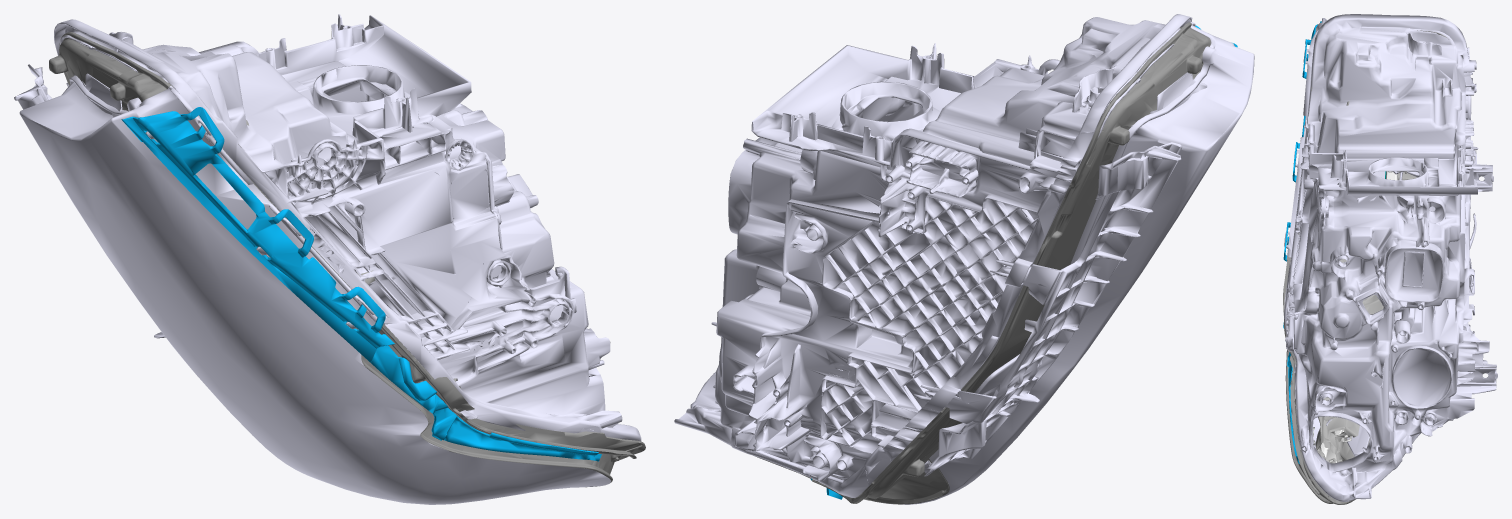
Rendered from series-3.glb.
The picture shows the model from 3 angles, left to right: view 1: azimuth 30°, elevation 25°; view 2: azimuth 150°, elevation 25°; view 3: azimuth 270°, elevation 25°; orthographic projection. The views are drawn at different scales.
Visible parts, largest first — view 1: headlight-simpler, visor, hanger, outer-liner; view 2: headlight-simpler, visor, outer-liner; view 3: headlight-simpler, inner-body, outer-liner, visor, hanger, griddy-thing-case.
Boxes of the visible parts, box(x1,y1,x2,y2) form: headlight-simpler: box(14, 14, 641, 441); visor: box(19, 75, 610, 504); hanger: box(121, 107, 601, 461); outer-liner: box(49, 32, 645, 487); headlight-simpler: box(674, 14, 1207, 497); visor: box(885, 21, 1254, 504); outer-liner: box(755, 22, 1211, 504); headlight-simpler: box(1284, 14, 1497, 501); inner-body: box(1297, 101, 1416, 463); outer-liner: box(1283, 30, 1448, 504); visor: box(1284, 18, 1385, 444); hanger: box(1283, 21, 1321, 463); griddy-thing-case: box(1320, 171, 1398, 462).
Bounding box in the file's own units: 19.62 × 17.55 × 9.81.
